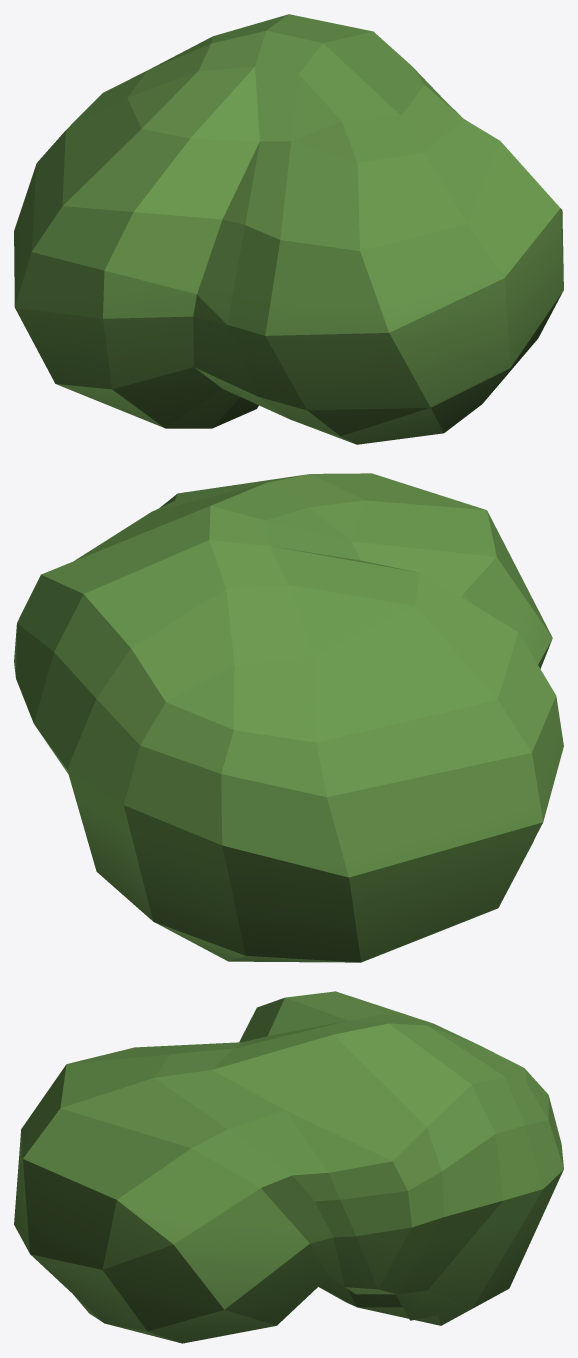
Rendered from Oak-Bush-05.fbx.
3 views of the same model, one above another, from view 1: azimuth 30°, elevation 25°; view 2: azimuth 150°, elevation 25°; view 3: azimuth 270°, elevation 25° (orthographic). The views are drawn at different scales.
Visible parts, largest first — view 1: Oak-Bush-05; view 2: Oak-Bush-05; view 3: Oak-Bush-05.
Part boxes in pixels (x1,y1,x2,y2): Oak-Bush-05: [14, 14, 563, 444]; Oak-Bush-05: [14, 473, 563, 962]; Oak-Bush-05: [14, 991, 563, 1343].
Size of the model in its own units: 497 by 355 by 544.
1 material, 1 textured.
